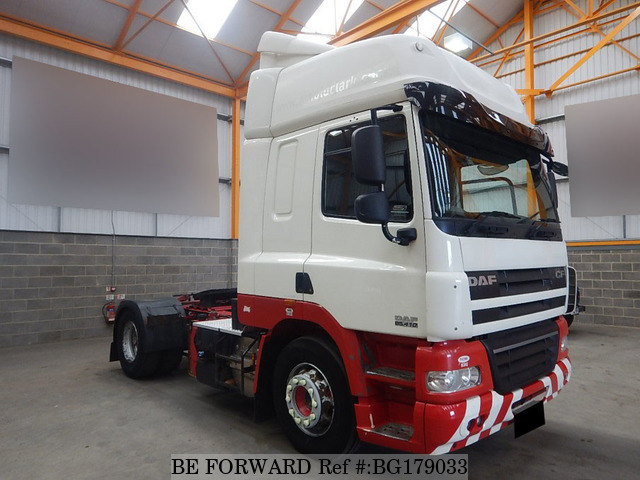truck: (240, 32, 572, 456)
